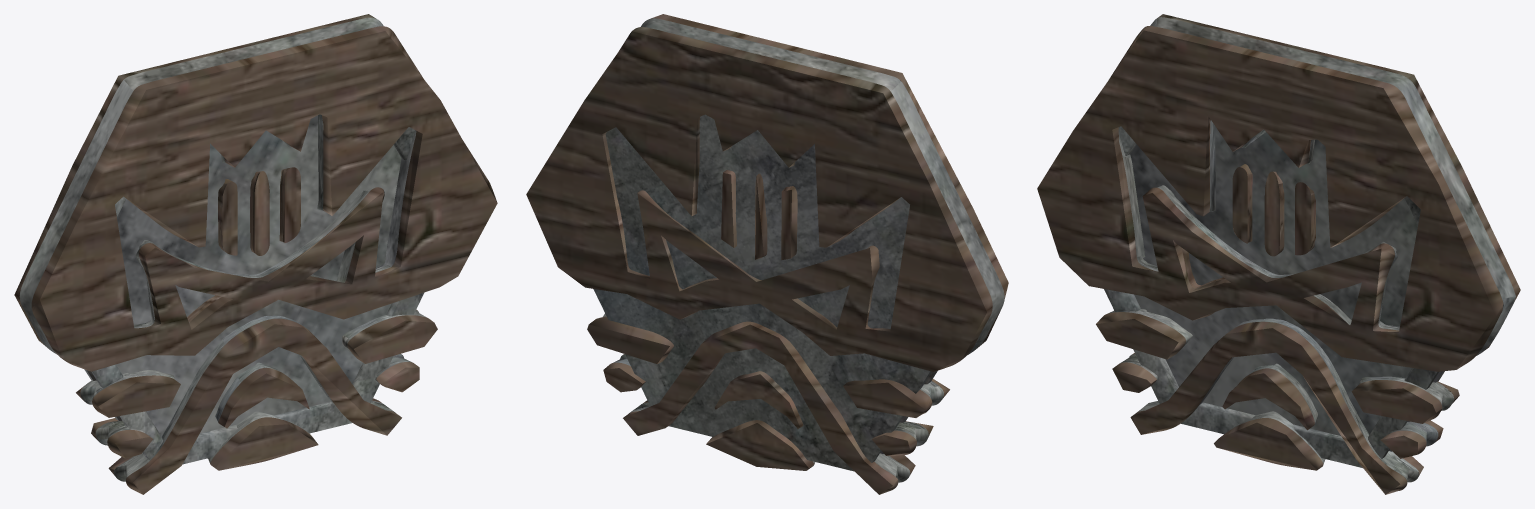
3 views of the same model, side by side, from view 1: azimuth 30°, elevation 25°; view 2: azimuth 150°, elevation 25°; view 3: azimuth 330°, elevation 25° (orthographic).
Visible parts, largest first — view 1: common_platform; view 2: common_platform; view 3: common_platform.
Part boxes in pixels (box(x1,y1,x2,y2)): common_platform: box(14, 14, 497, 494); common_platform: box(526, 14, 1008, 494); common_platform: box(1037, 14, 1520, 494).
Bounding box in the file's own units: 0.5961 × 0.5026 × 0.0527.
Materials: 1 (1 with a texture image).
